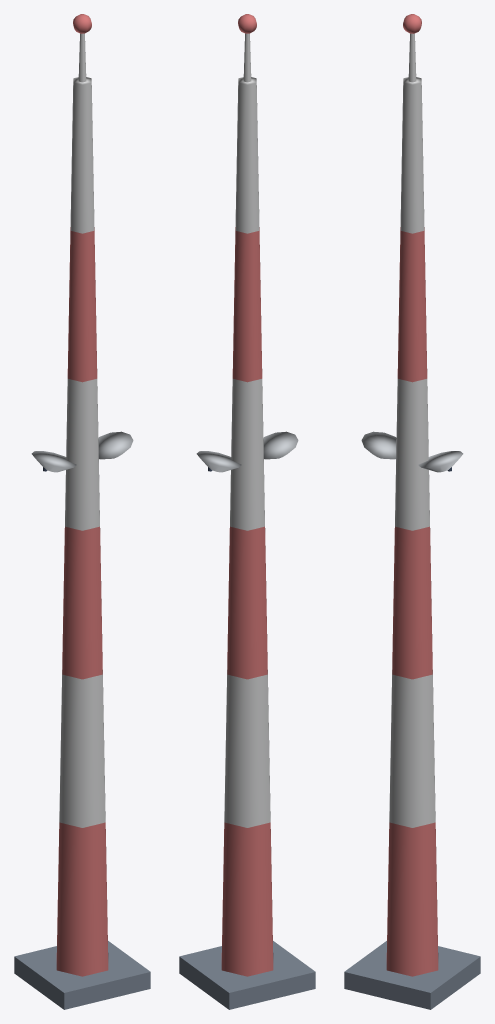
File: radio-tower.glb
3 renders of one model, left to right at view 1: azimuth 30°, elevation 25°; view 2: azimuth 210°, elevation 25°; view 3: azimuth 330°, elevation 25°, orthographic.
Visible parts, largest first — view 1: Root; view 2: Root; view 3: Root.
Part boxes in pixels (x1,y1,x2,y2): Root: (14, 14, 150, 1009); Root: (179, 14, 315, 1009); Root: (344, 14, 480, 1009).
Size of the model in its own units: 3.53 by 34.12 by 3.2.
